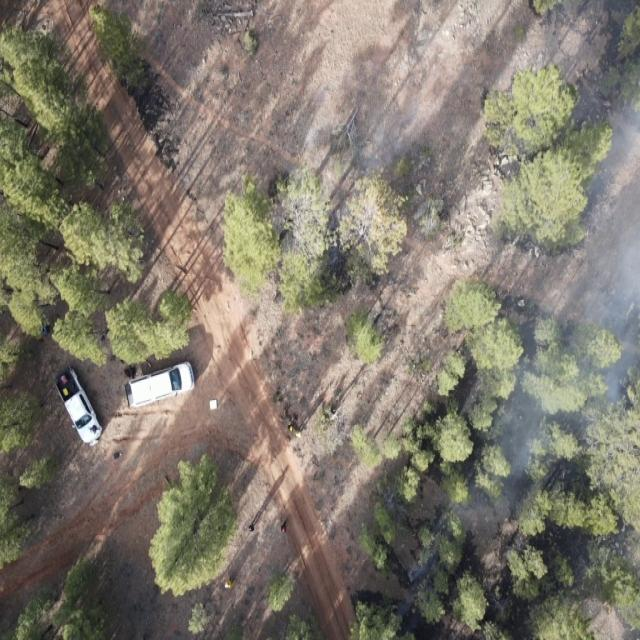smoke: (447, 296, 640, 542), (545, 0, 640, 295)
